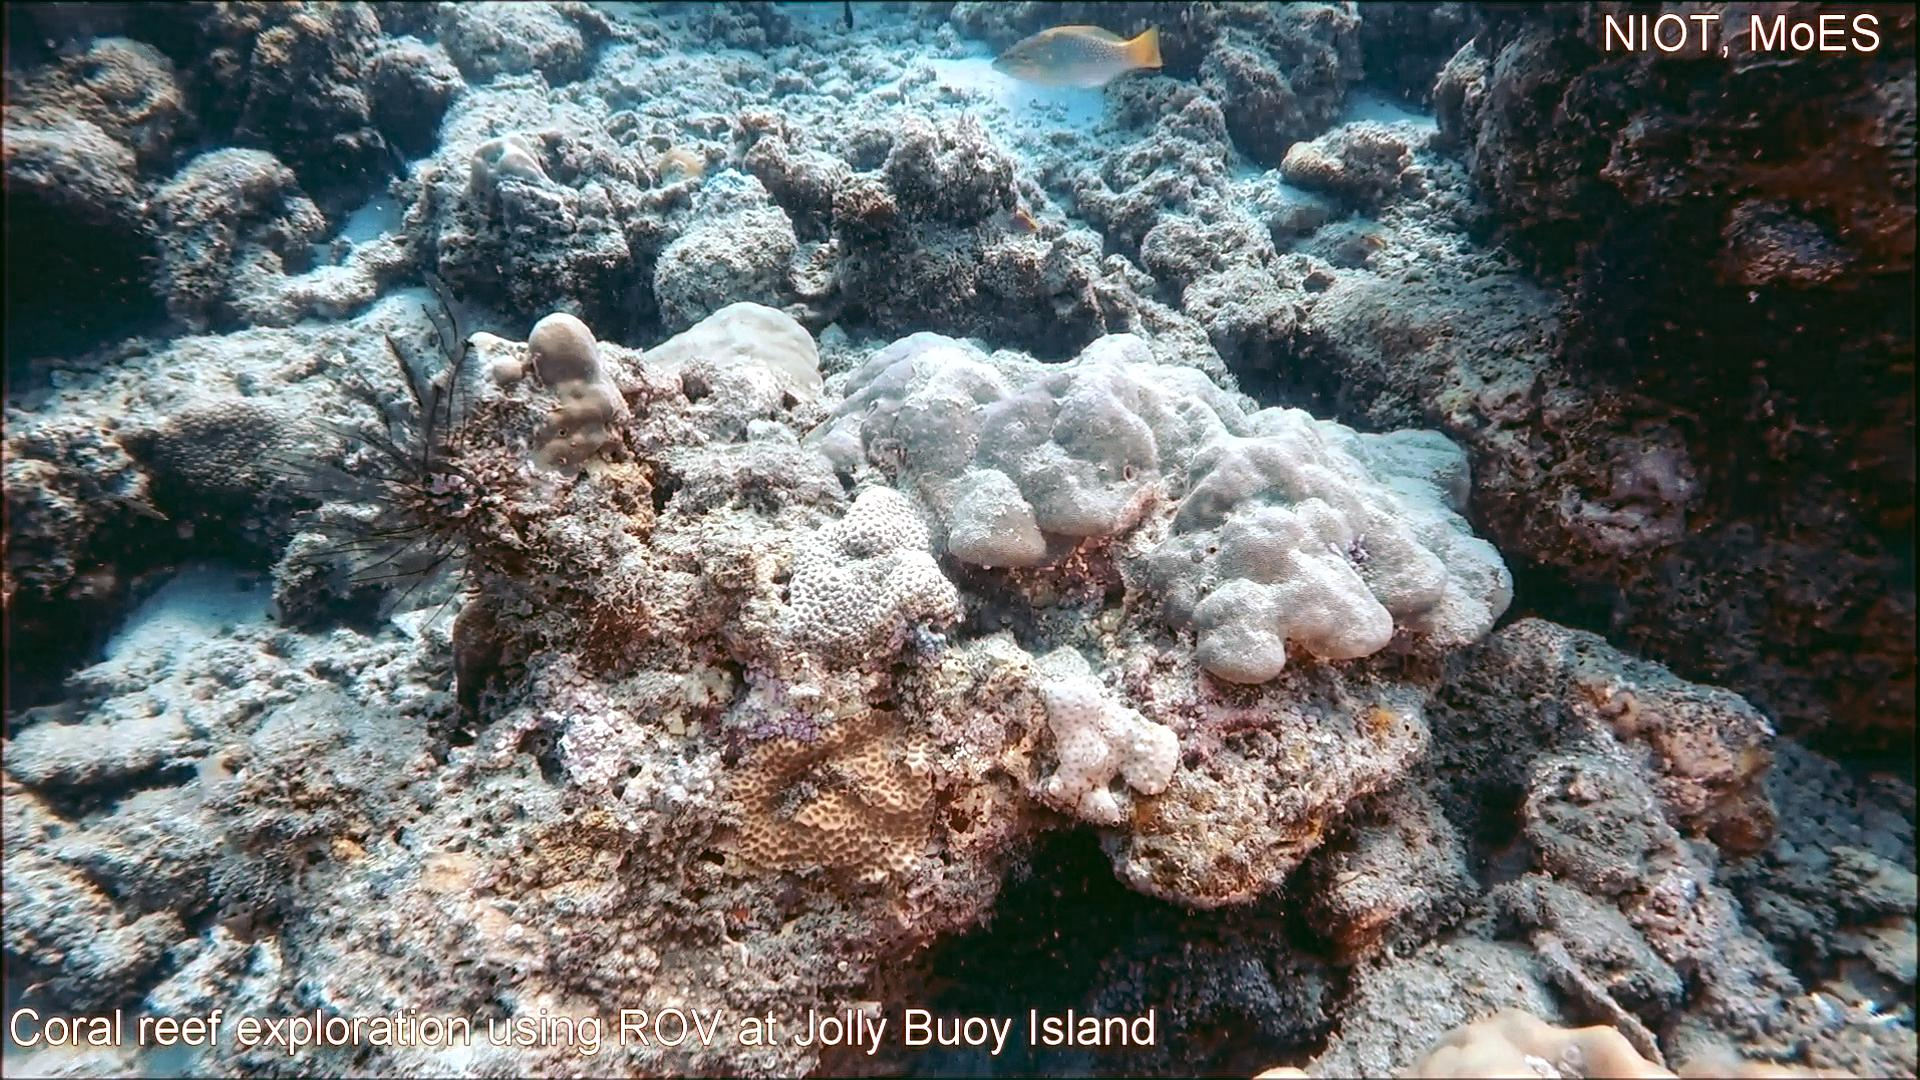Feather star-Crinoid star: (237, 265, 501, 642)
Goniastrea-Goniastrea pectinata: (785, 479, 968, 674)
Porites-Porites pukoensis: (1048, 320, 1520, 692)
Turbinaria-Turbinaria stellulata: (144, 393, 306, 513)
